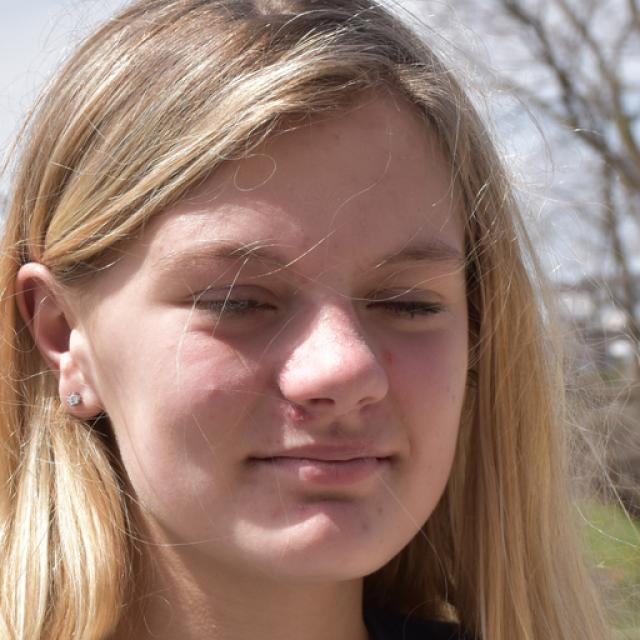happy: (115, 99, 468, 583)
